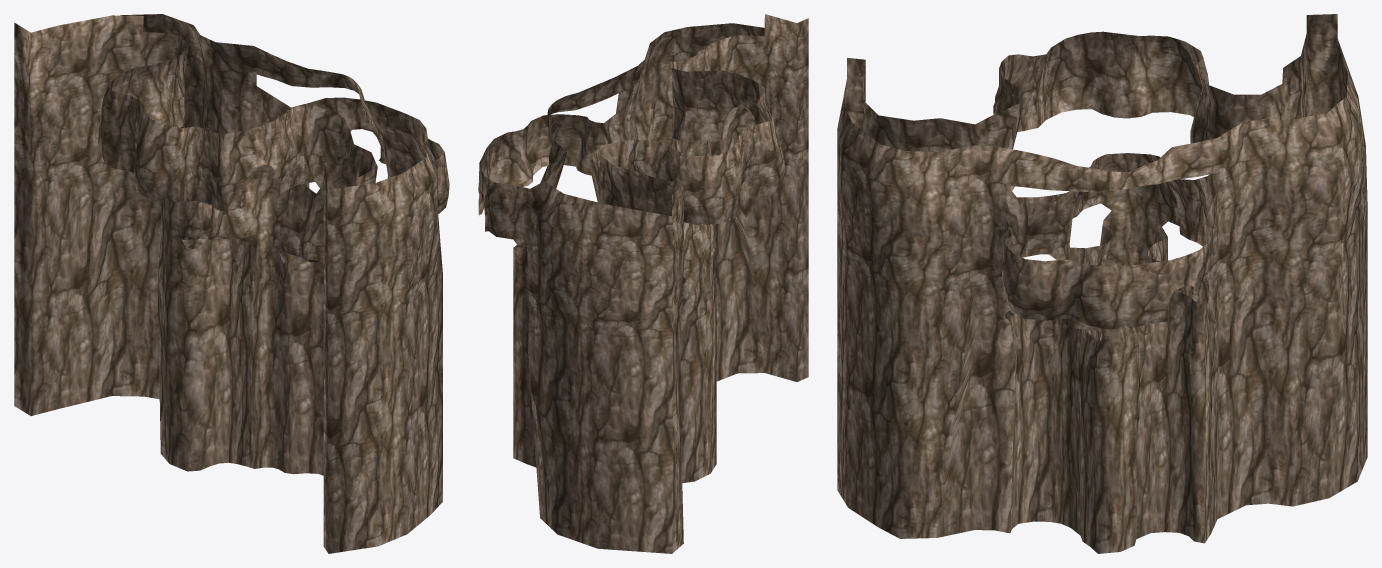
Rendered from OVERHILL_A_01_OBJECT227.fbx.
3 views of the same model, side by side, from view 1: azimuth 30°, elevation 25°; view 2: azimuth 150°, elevation 25°; view 3: azimuth 270°, elevation 25° (orthographic). The views are drawn at different scales.
Parts seen in each view (by area): view 1: OVERHILL_A_01_OBJECT227; view 2: OVERHILL_A_01_OBJECT227; view 3: OVERHILL_A_01_OBJECT227.
Boxes of the visible parts, x1,y1,x2,y2 form: OVERHILL_A_01_OBJECT227: (14, 14, 449, 553); OVERHILL_A_01_OBJECT227: (478, 14, 808, 553); OVERHILL_A_01_OBJECT227: (837, 14, 1367, 553).
Bounding box in the file's own units: 250553 × 304574 × 358268.
1 material, 1 textured.
